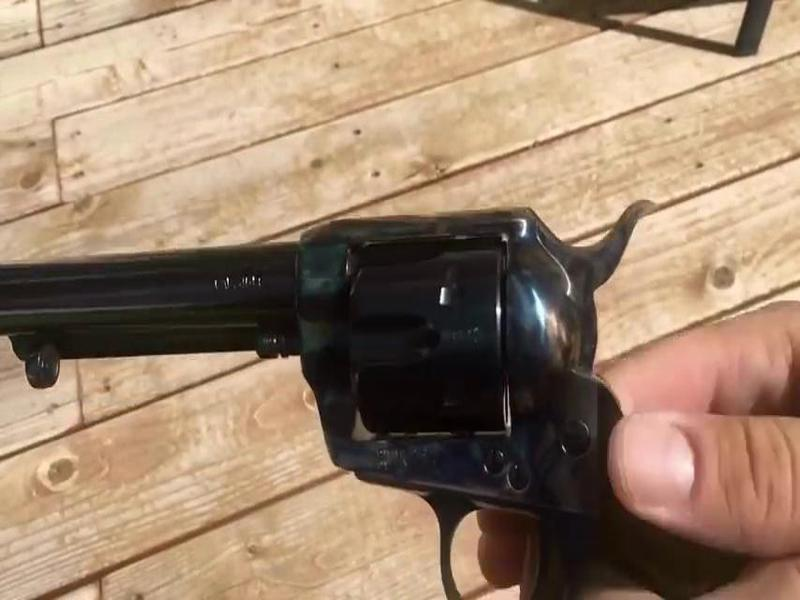Revolver: (11, 204, 675, 551)
